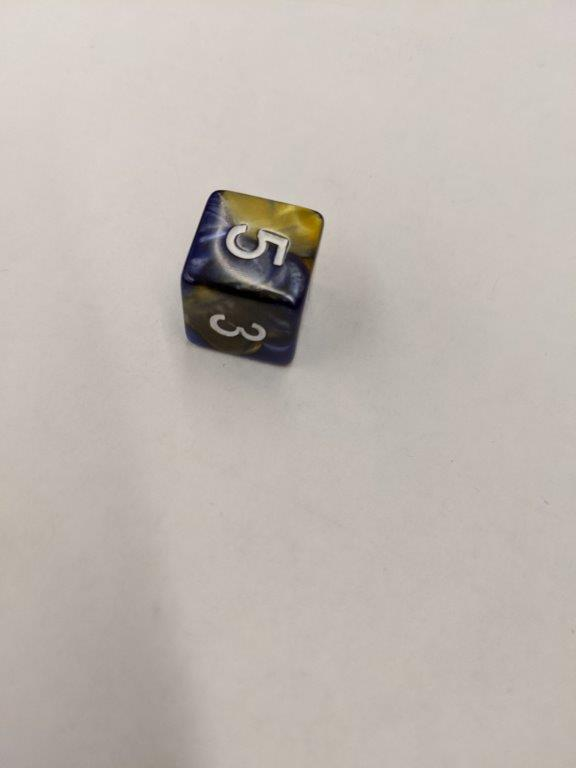d6-5: (179, 187, 324, 365)
